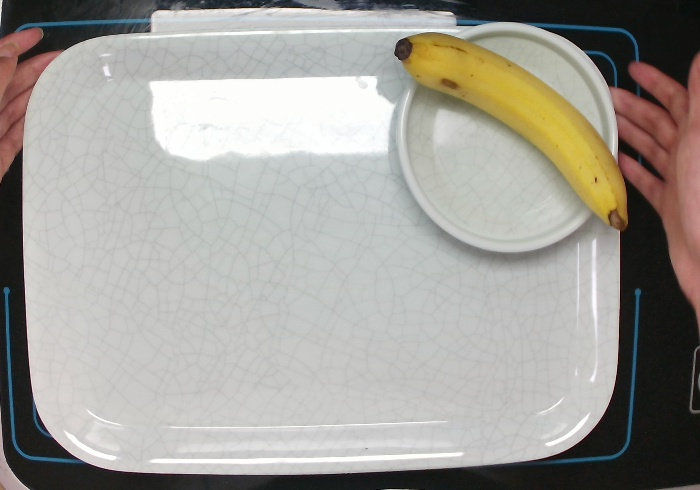JYsf-Xiao_Yuan_Pan: (393, 20, 620, 253)
